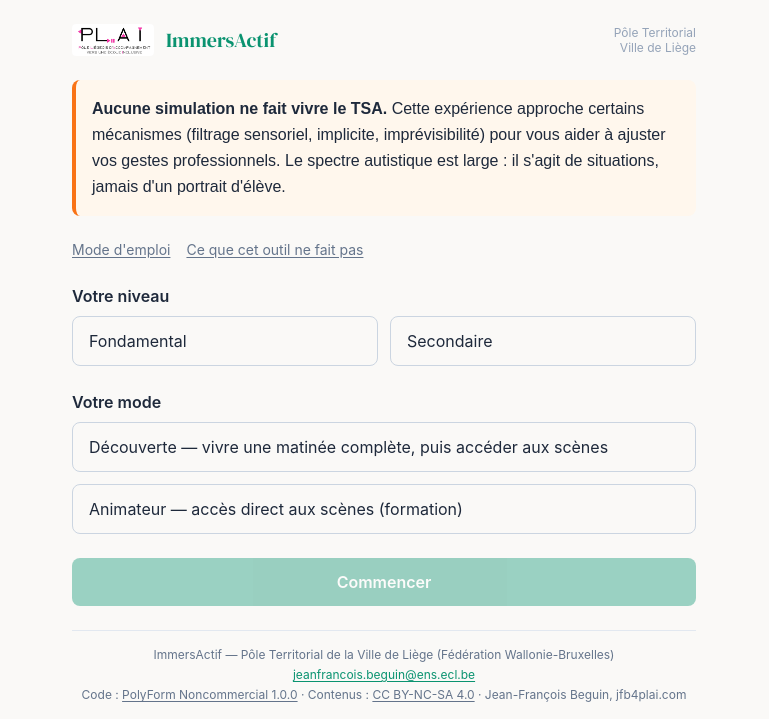
Test: App flow › animateur mode lands directly on the hub
Click the button "Secondaire" at (450, 341), box 390,316 -> 696,366
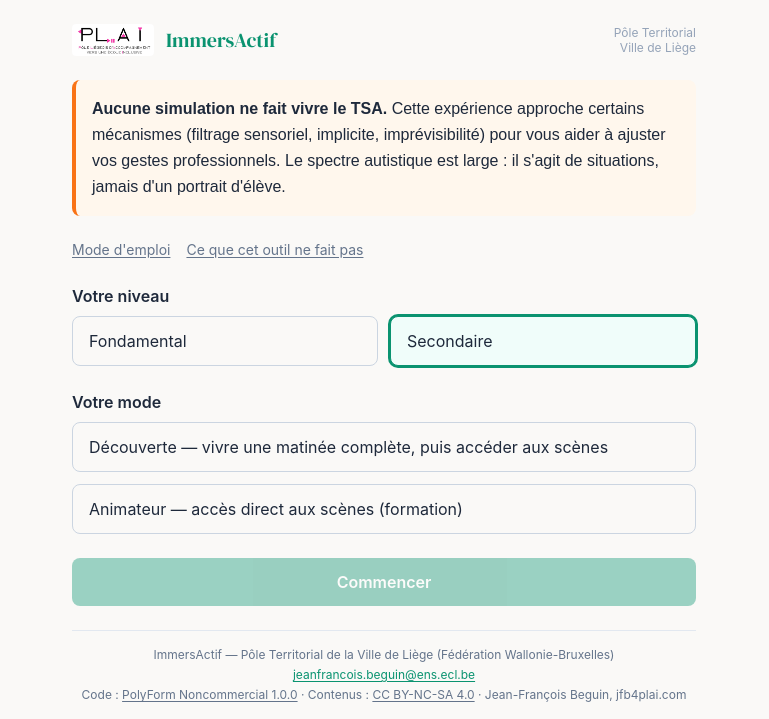
Click the button "Animateur — accès direct aux scènes (formation)" at (384, 509), box 72,484 -> 696,534
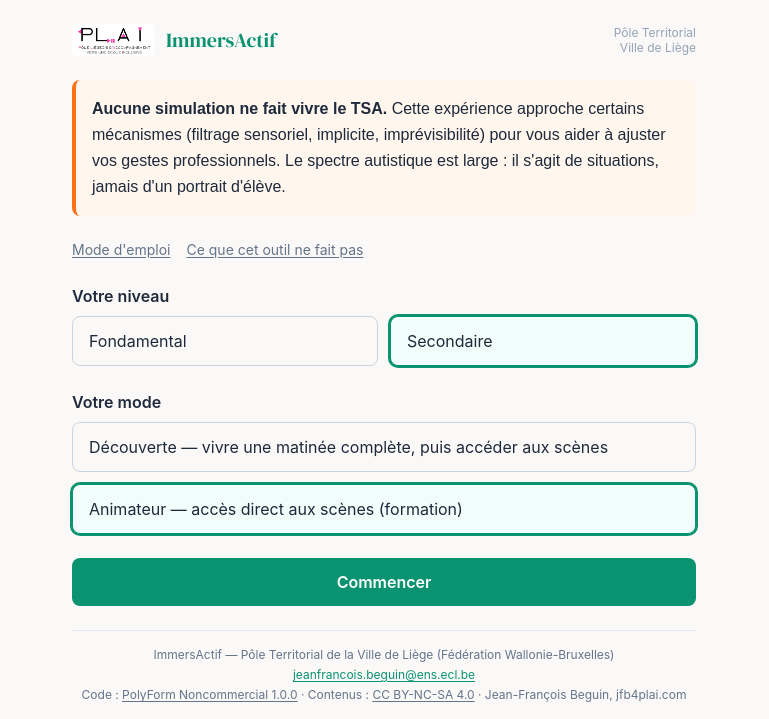
Click the button "Commencer" at (384, 582), box 72,558 -> 696,606
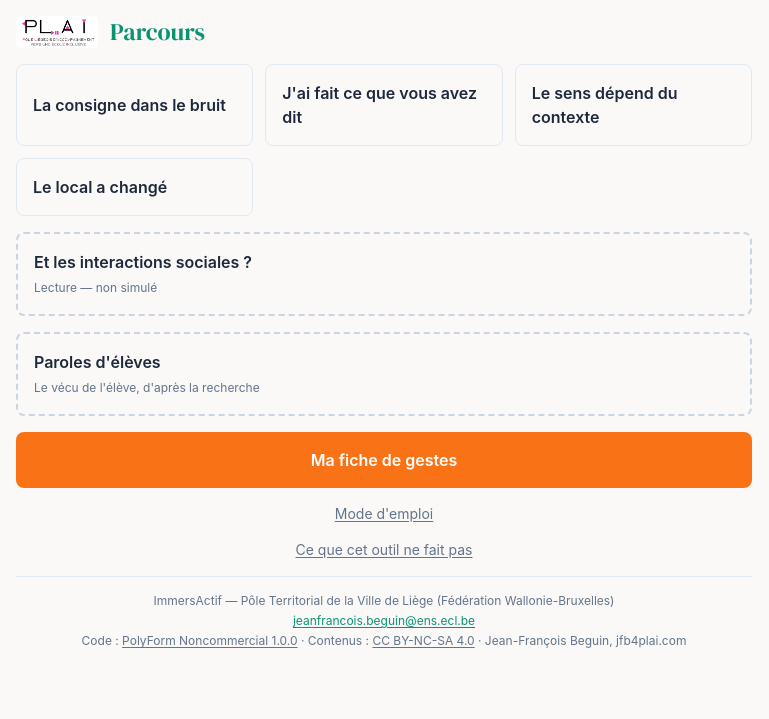
Expected: the heading "Parcours" is shown, 110,16 -> 205,48
